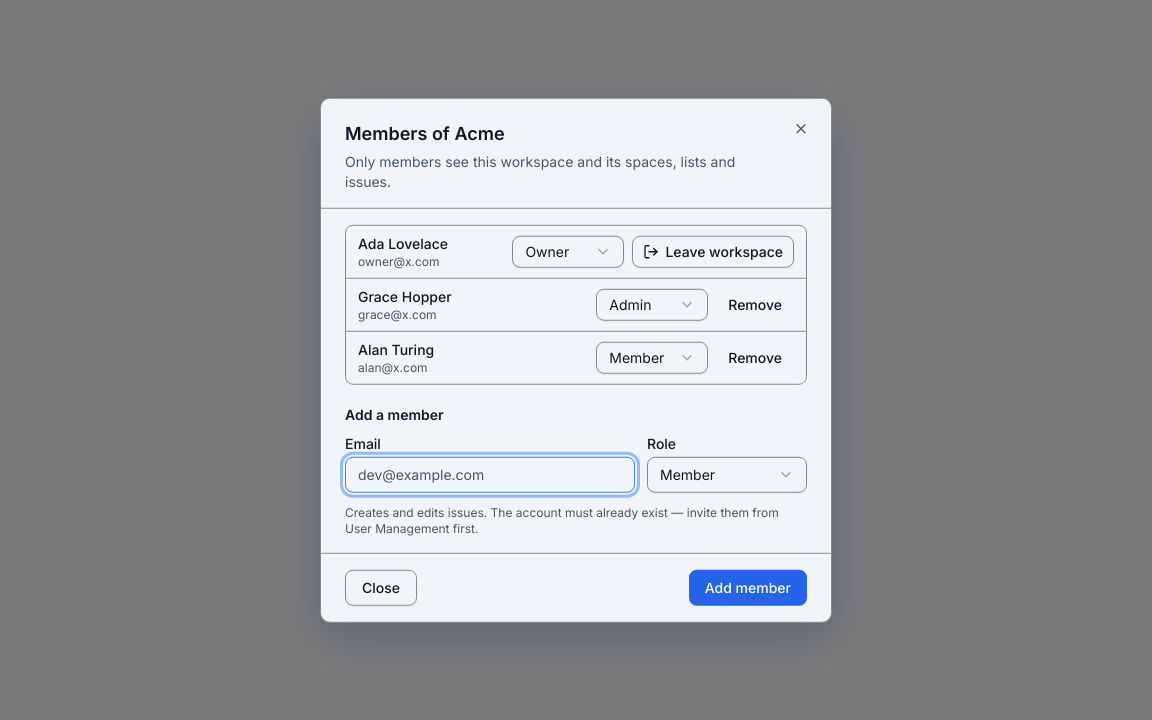
Test: MembersDialog changing members › puts the role back, and shows the API’s reason in the dialog, when a change is refused
The width and height of the screenshot is (1152, 720).
Click the dropdown named "Role of Alan Turing".
click(652, 357)  # box [596,341,708,373]
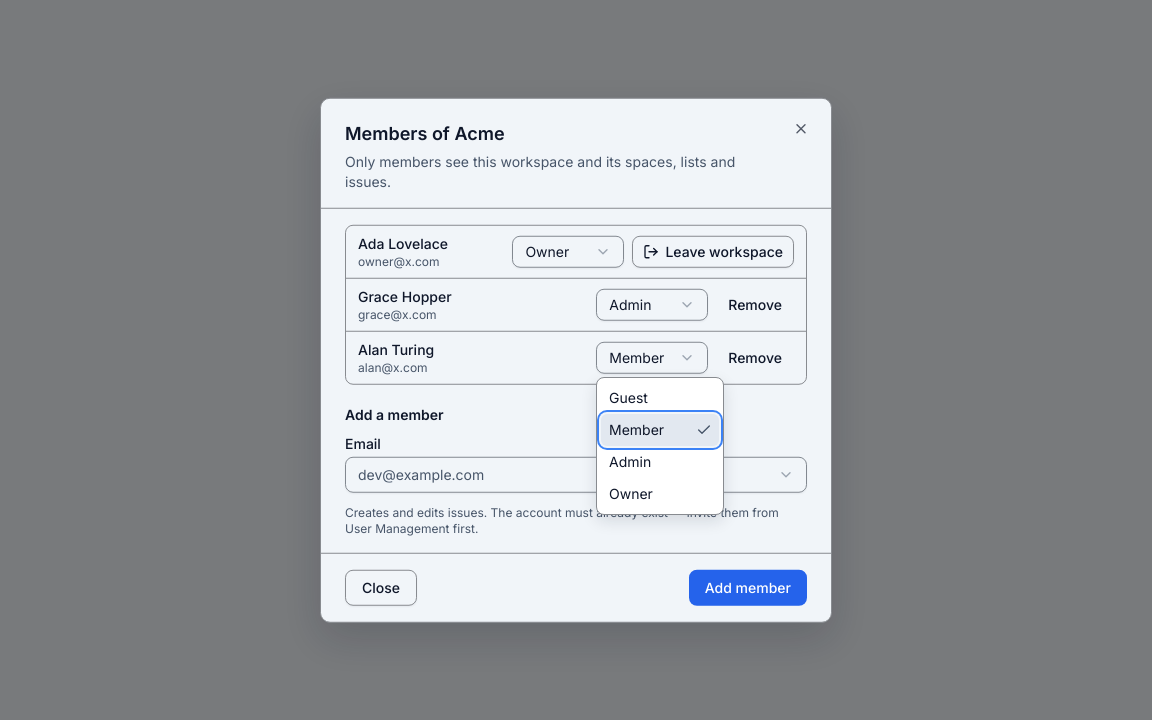
Click the option "Guest".
click(628, 398)  # box [609,389,648,406]
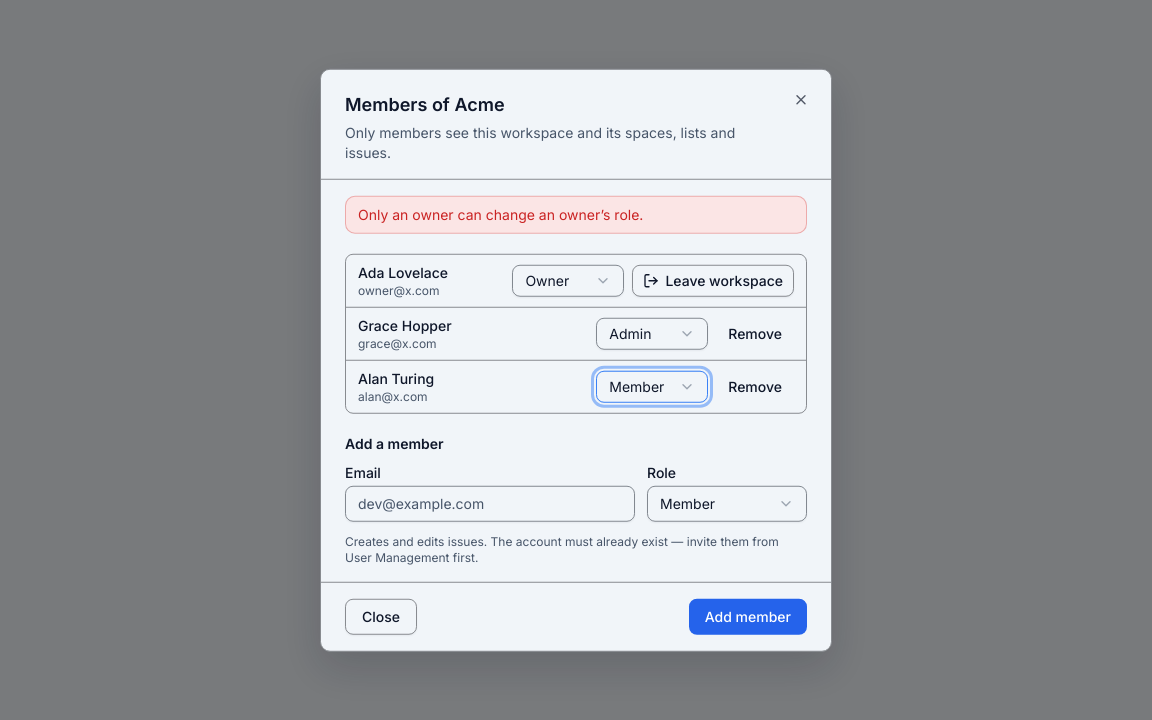
Expected: the dropdown named "Role of Alan Turing" reads "Member", [596,370,708,402]
Result: the message reads "Only an owner can change an owner’s role." at [358,205,643,222]
